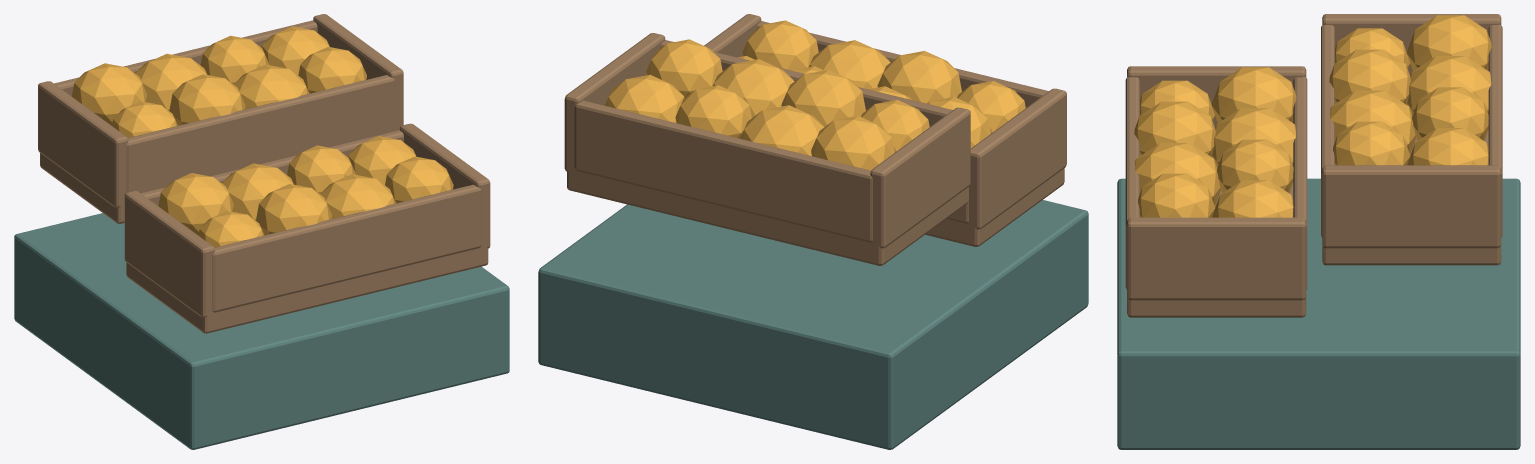
The model's file is boxbox-produce-amber.glb.
3 views of the same model, side by side, from view 1: azimuth 30°, elevation 25°; view 2: azimuth 150°, elevation 25°; view 3: azimuth 270°, elevation 25° (orthographic). The views are drawn at different scales.
Parts seen in each view (by area): view 1: WoodCrate, ShelfEnamel, Amber; view 2: ShelfEnamel, WoodCrate, Amber; view 3: ShelfEnamel, WoodCrate, Amber.
Part boxes in pixels (x1,y1,x2,y2): WoodCrate: (38, 14, 490, 333); ShelfEnamel: (14, 213, 509, 449); Amber: (72, 26, 453, 247); ShelfEnamel: (538, 200, 1088, 449); WoodCrate: (564, 14, 1066, 265); Amber: (605, 20, 1025, 170); ShelfEnamel: (1117, 178, 1520, 449); WoodCrate: (1125, 14, 1502, 317); Amber: (1134, 15, 1491, 217).
Size of the model in its own units: 0.65 by 0.5067 by 0.63.
